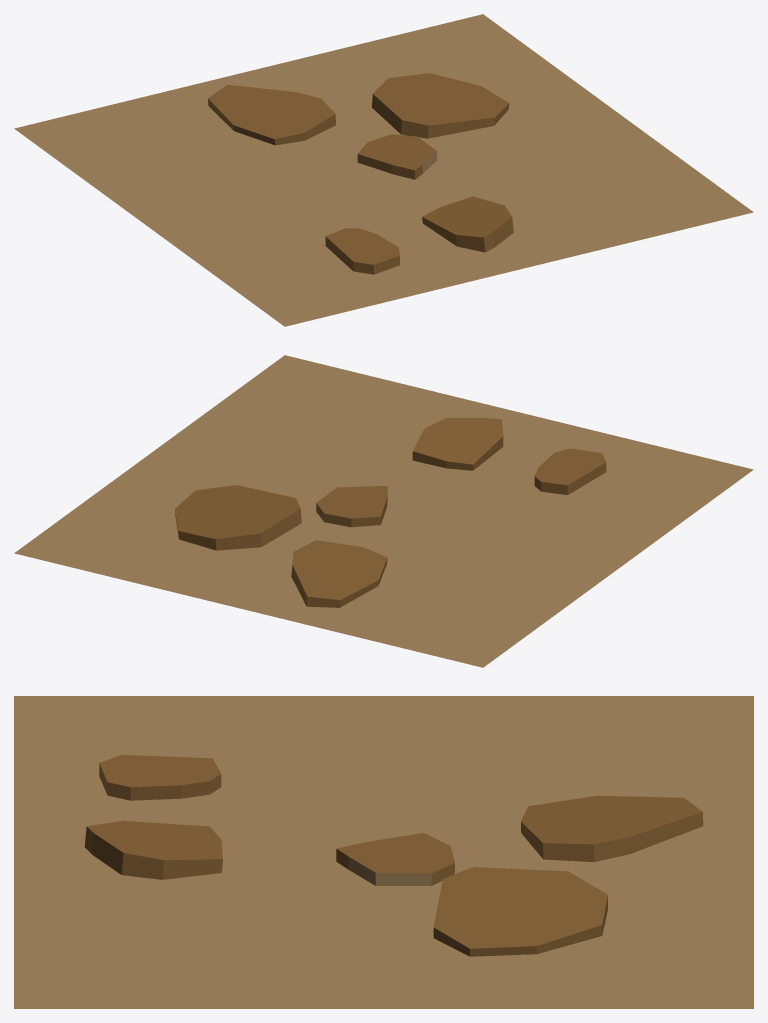
File: Floor2MD.fbx
3 renders of one model, top to bottom at view 1: azimuth 30°, elevation 25°; view 2: azimuth 150°, elevation 25°; view 3: azimuth 270°, elevation 25°, orthographic. The views are drawn at different scales.
Parts seen in each view (by area): view 1: Plane.010; view 2: Plane.010; view 3: Plane.010.
Boxes of the visible parts, x1,y1,x2,y2 form: Plane.010: (14,14,753,326); Plane.010: (14,355,753,667); Plane.010: (14,696,753,1008).
Bounding box in the file's own units: 400 × 23.88 × 400.
